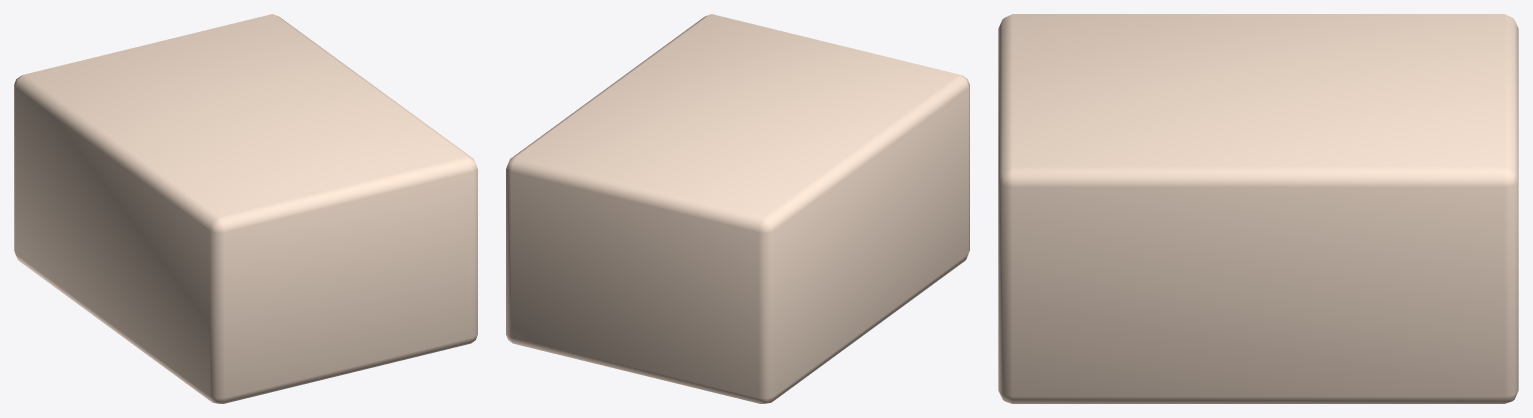
3 renders of one model, left to right at view 1: azimuth 30°, elevation 25°; view 2: azimuth 150°, elevation 25°; view 3: azimuth 270°, elevation 25°, orthographic. The views are drawn at different scales.
Visible parts, largest first — view 1: Cube.042; view 2: Cube.042; view 3: Cube.042.
Boxes of the visible parts, box(x1,y1,x2,y2) form: Cube.042: box(14, 14, 477, 403); Cube.042: box(506, 14, 969, 403); Cube.042: box(998, 14, 1518, 403).
Size of the model in its own units: 1.12 by 0.7529 by 1.5.
Materials: 1 (1 with a texture image).
